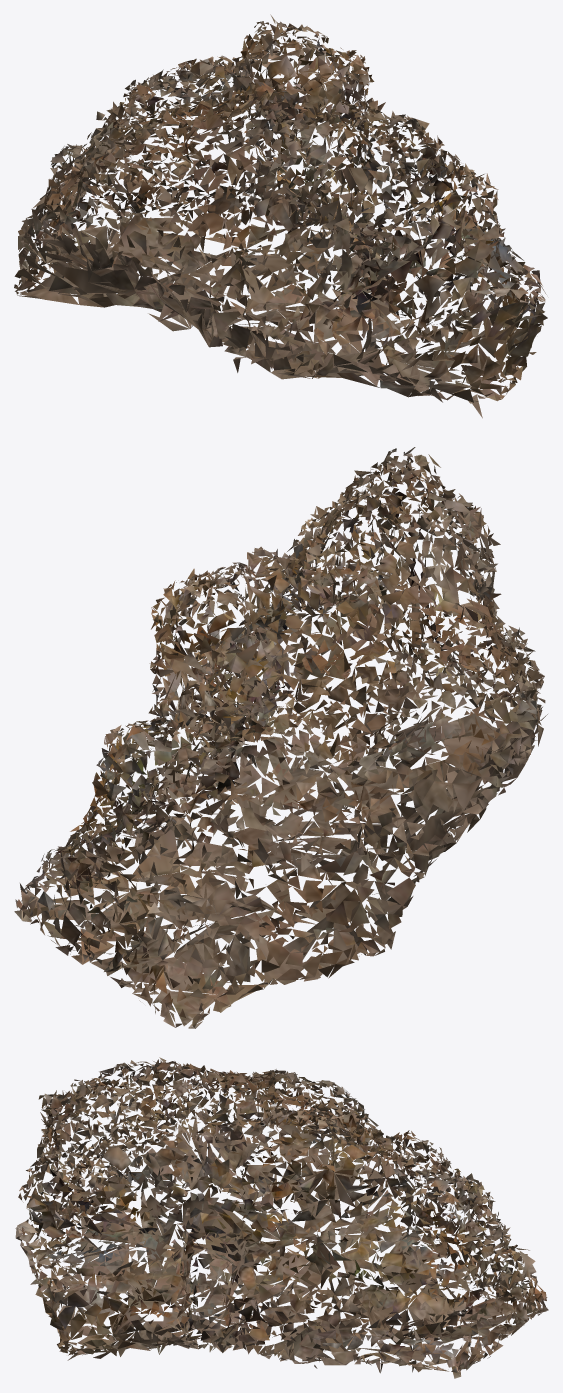
Rendered from ph_boulder_01.glb.
3 views of the same model, one above another, from view 1: azimuth 30°, elevation 25°; view 2: azimuth 150°, elevation 25°; view 3: azimuth 270°, elevation 25° (orthographic). The views are drawn at different scales.
Parts seen in each view (by area): view 1: boulder_01; view 2: boulder_01; view 3: boulder_01.
Part boxes in pixels (x1,y1,x2,y2): boulder_01: (14, 14, 547, 418); boulder_01: (14, 447, 547, 1028); boulder_01: (15, 1057, 548, 1378).
Bounding box in the file's own units: 1.28 × 1 × 1.84.
1 material, 1 textured.
